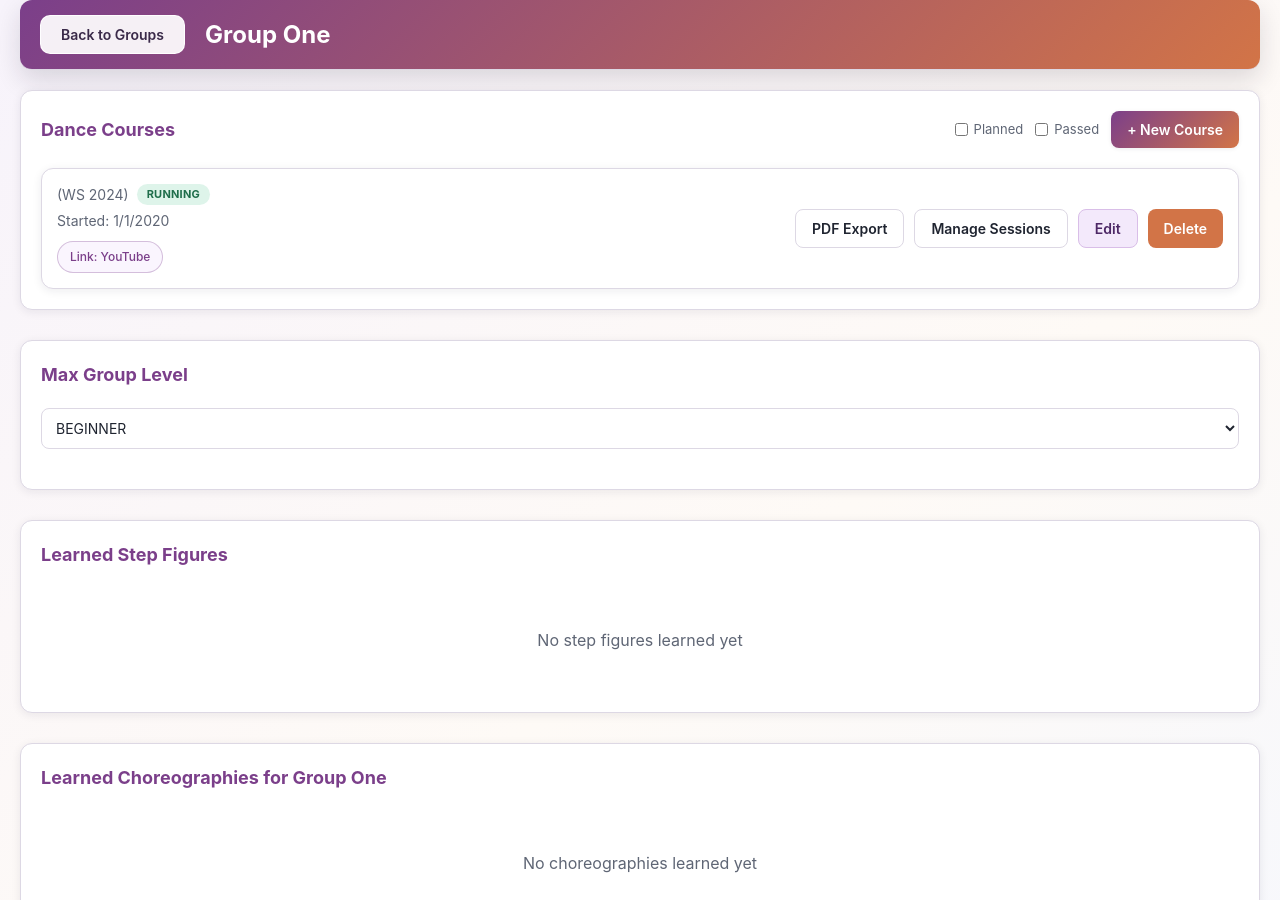
Test: DanceGroupDetail › shows running courses by default and can include planned courses
Expected: the heading "Group One" is shown, [205,20,330,48]
Expected: the text "(WS 2024)" is shown, [57,184,129,205]
Click the checkbox labelled "Planned": (961, 130) [955,123,968,136]
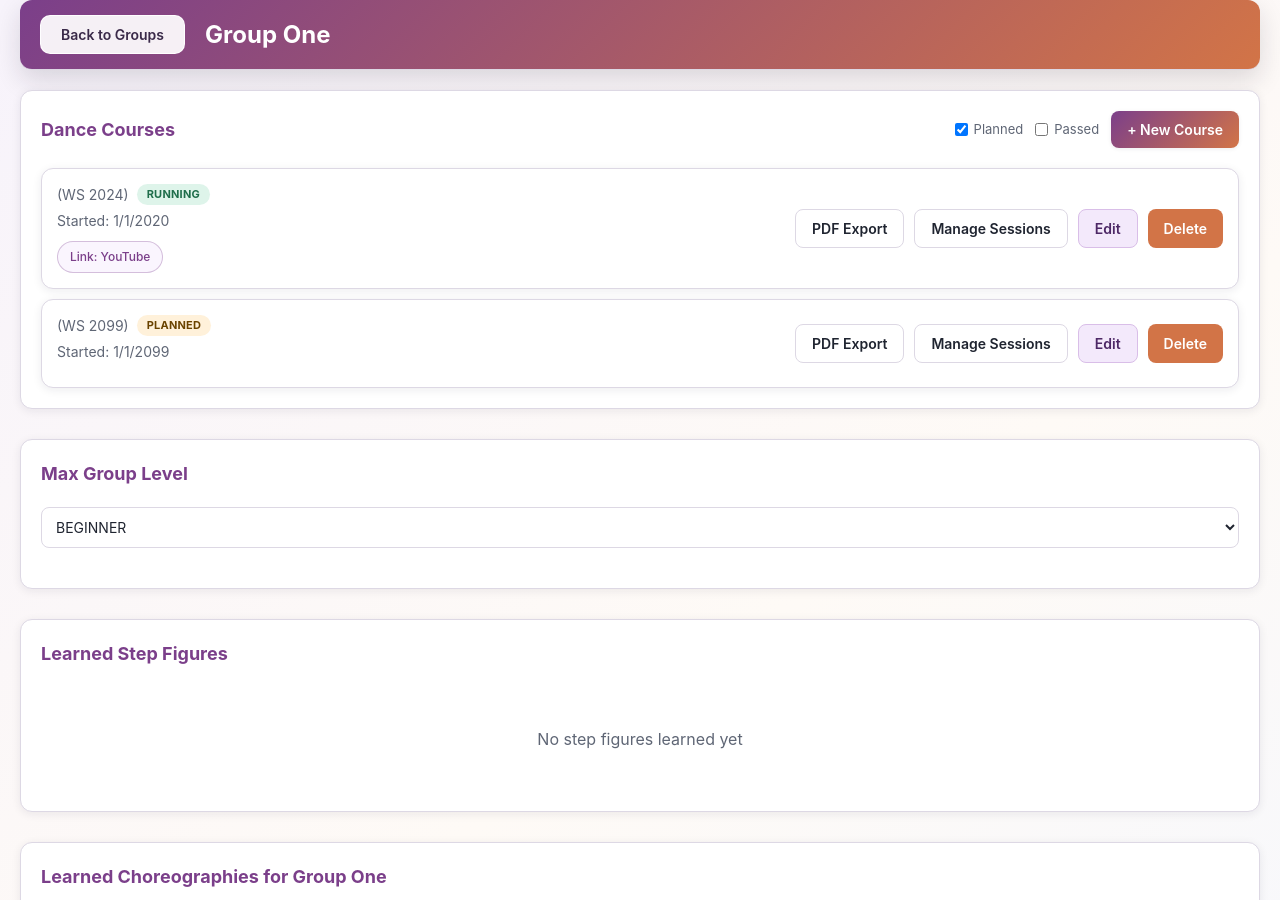
Expected: the text "(WS 2099)" is shown, [57,315,129,336]
